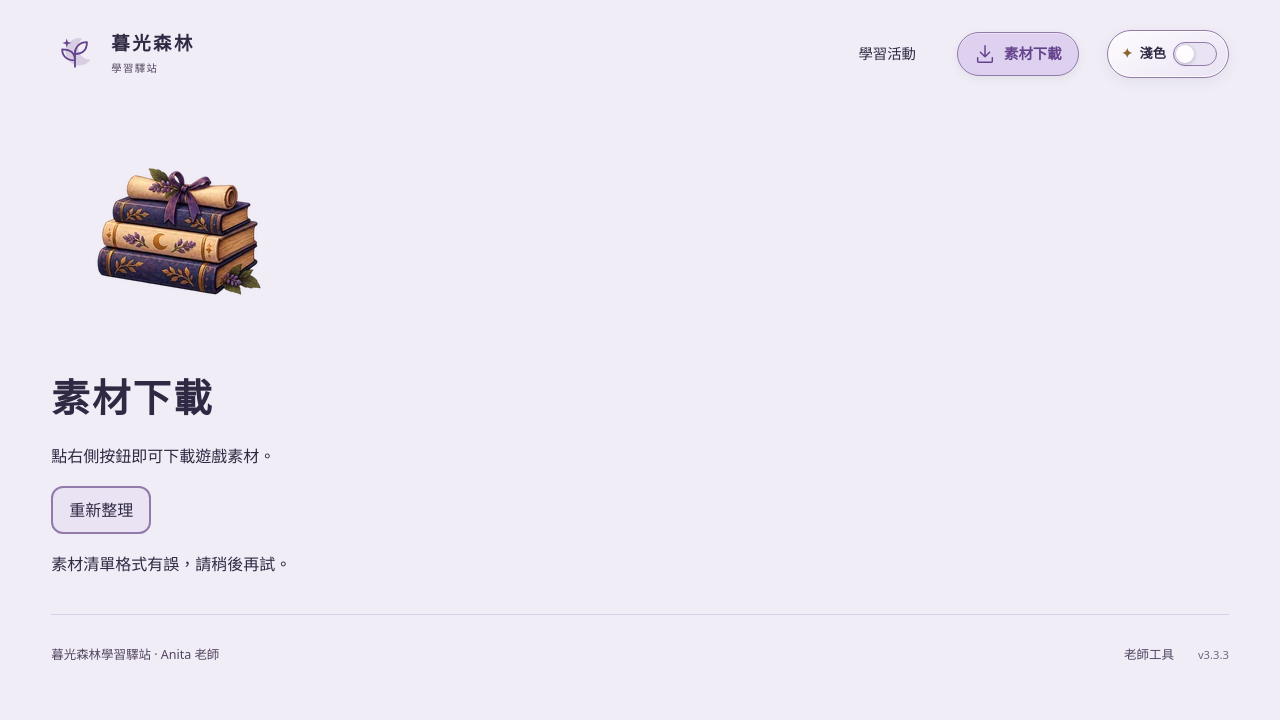
格式錯誤、限流與空目錄可辨認並重新整理恢復
The width and height of the screenshot is (1280, 720).
Expected: the message reads "素材清單格式有誤，請稍後再試。", [51,553,291,575]
Click the button "重新整理".
click(101, 510)  # box [51,486,151,534]
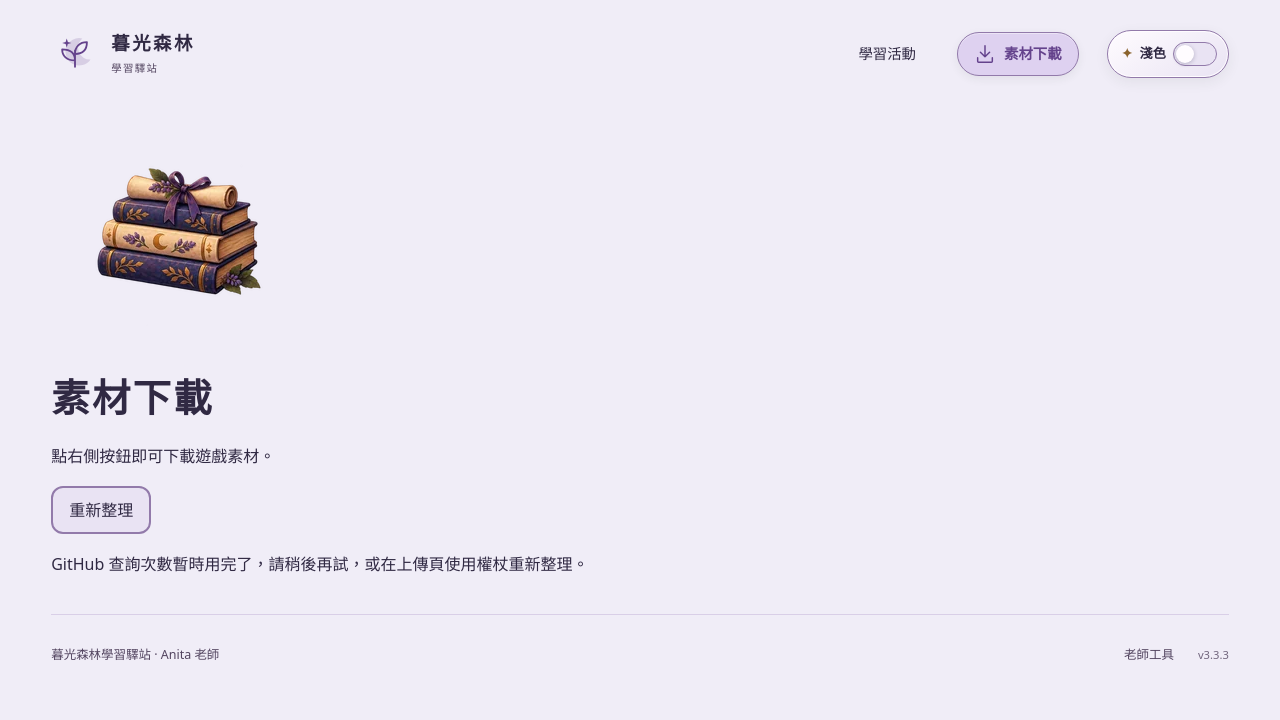
Now the message shows "查詢次數", box [51,553,588,575]
Click the button "重新整理".
click(101, 510)  # box [51,486,151,534]
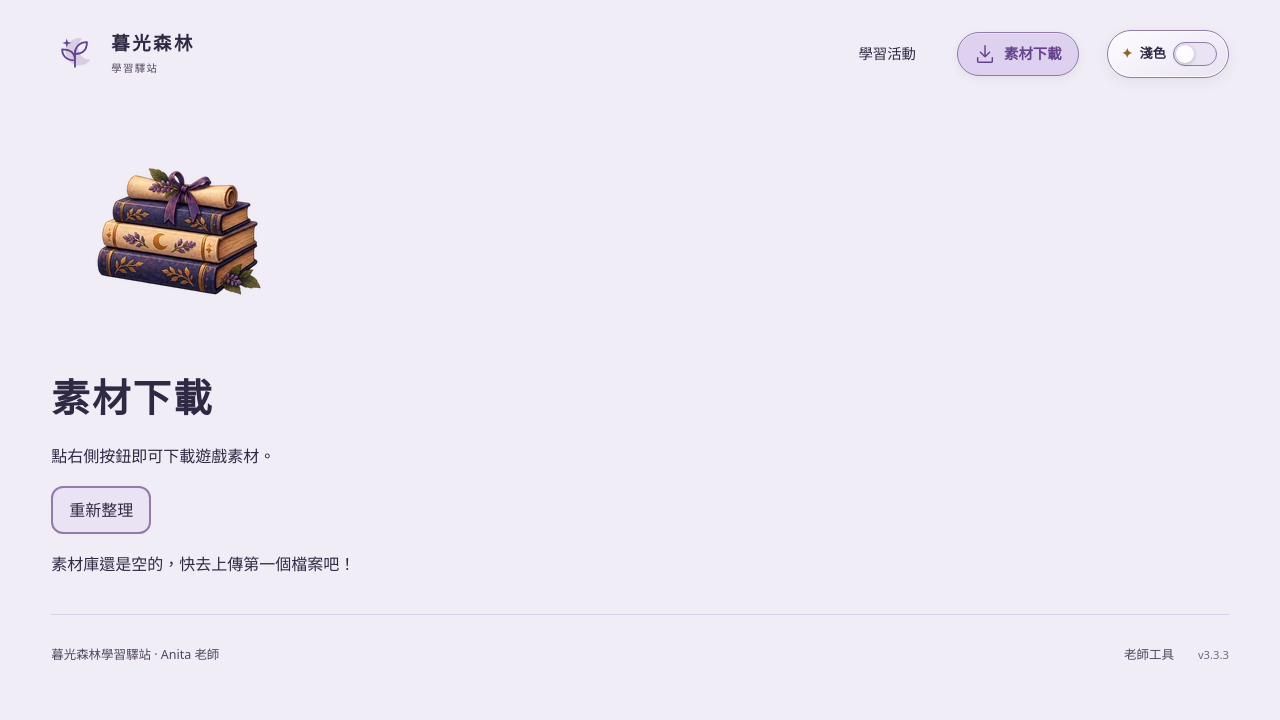
Now the text "素材庫還是空的，快去上傳第一個檔案吧！" is shown, box [51,553,355,575]
